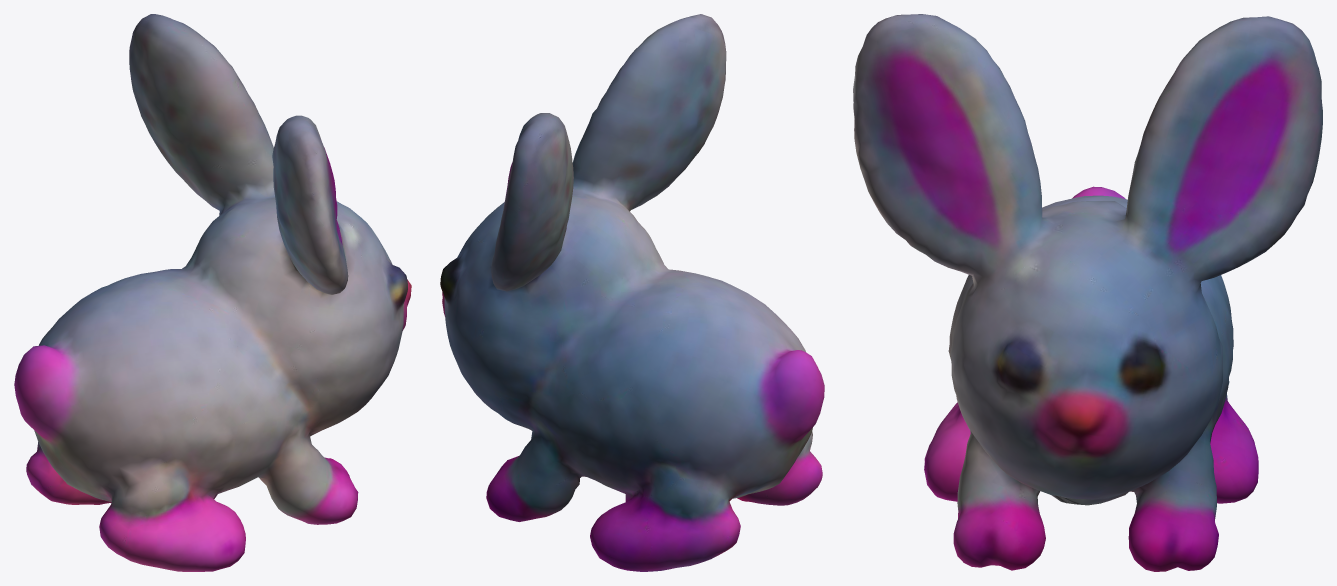
File: Create_rabbit_with_Oval_face_with_soft_features_a_calm_expr_0614155842_preview.obj
The picture shows the model from 3 angles, left to right: view 1: azimuth 30°, elevation 25°; view 2: azimuth 150°, elevation 25°; view 3: azimuth 270°, elevation 25°; orthographic projection. The views are drawn at different scales.
Visible parts, largest first — view 1: Mesh1; view 2: Mesh1; view 3: Mesh1.
Part boxes in pixels (box(x1,y1,x2,y2)): Mesh1: box(14, 14, 411, 571); Mesh1: box(440, 14, 824, 571); Mesh1: box(853, 14, 1322, 571).
Size of the model in its own units: 1.09 by 1.2 by 0.9681.
Materials: 1 (1 with a texture image).
